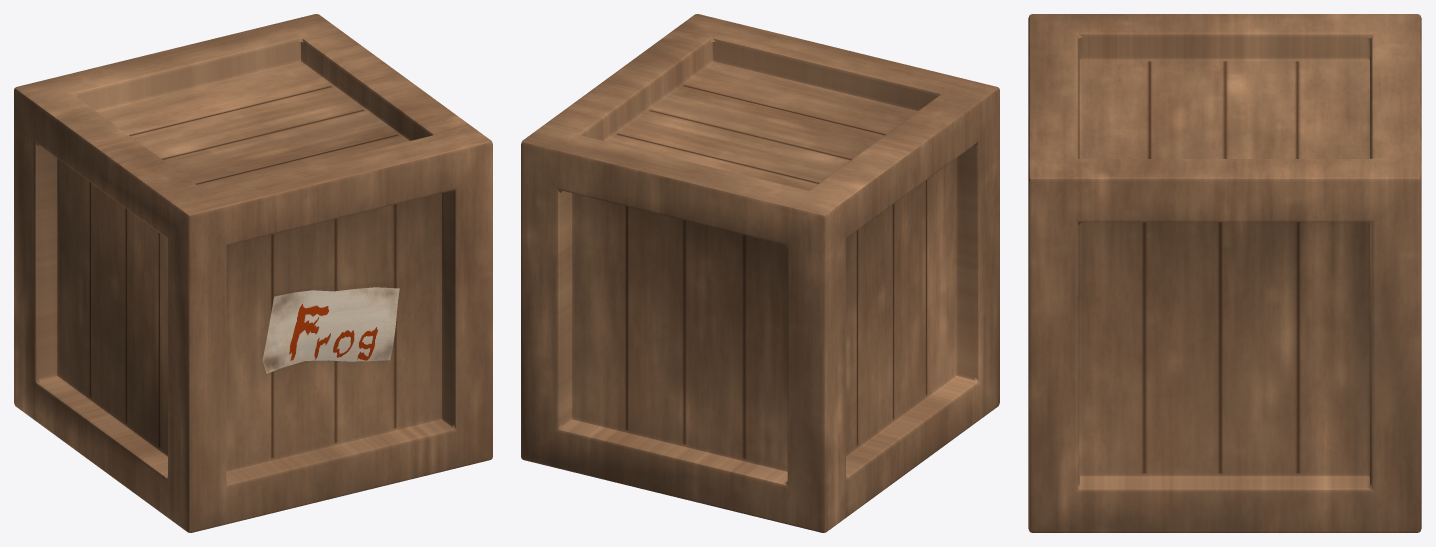
Rendered from wooden box_A.fbx.
3 views of the same model, side by side, from view 1: azimuth 30°, elevation 25°; view 2: azimuth 150°, elevation 25°; view 3: azimuth 270°, elevation 25° (orthographic). The views are drawn at different scales.
Visible parts, largest first — view 1: wooden box_A, sticker; view 2: wooden box_A; view 3: wooden box_A.
Boxes of the visible parts, left/top/right/bottom form: wooden box_A: left=14, top=14, right=492, bottom=532; sticker: left=262, top=287, right=399, bottom=373; wooden box_A: left=521, top=14, right=999, bottom=532; wooden box_A: left=1028, top=14, right=1421, bottom=532.
Bounding box in the file's own units: 56.11 × 56.11 × 56.11.
